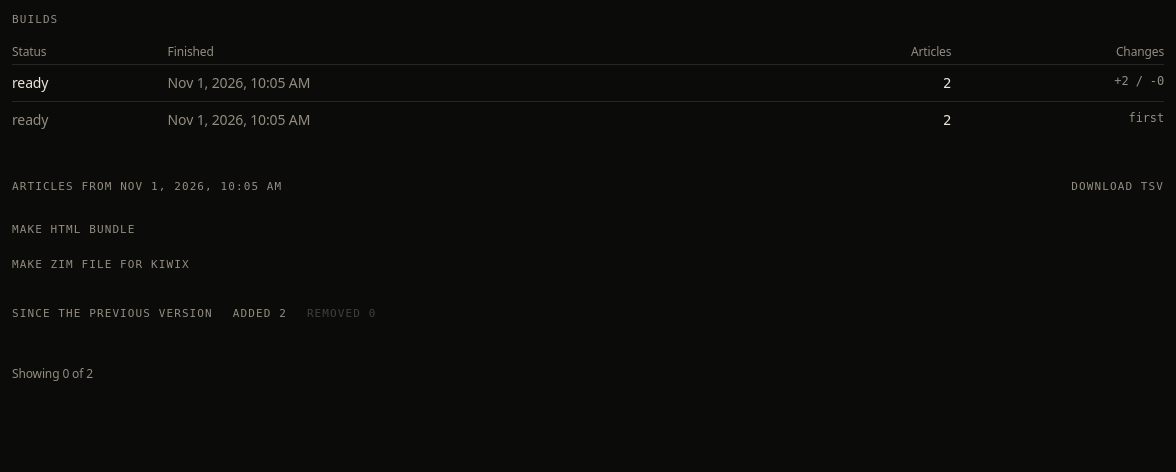
ListDetail › shows what changed since the previous version
Expected: the text named "2 added, 0 removed" is shown, [1114,74,1164,88]
Expected: the text "first" is shown, [951,101,1164,138]
Click the button "added 2". click: (260, 313)
box: [233,297,287,330]
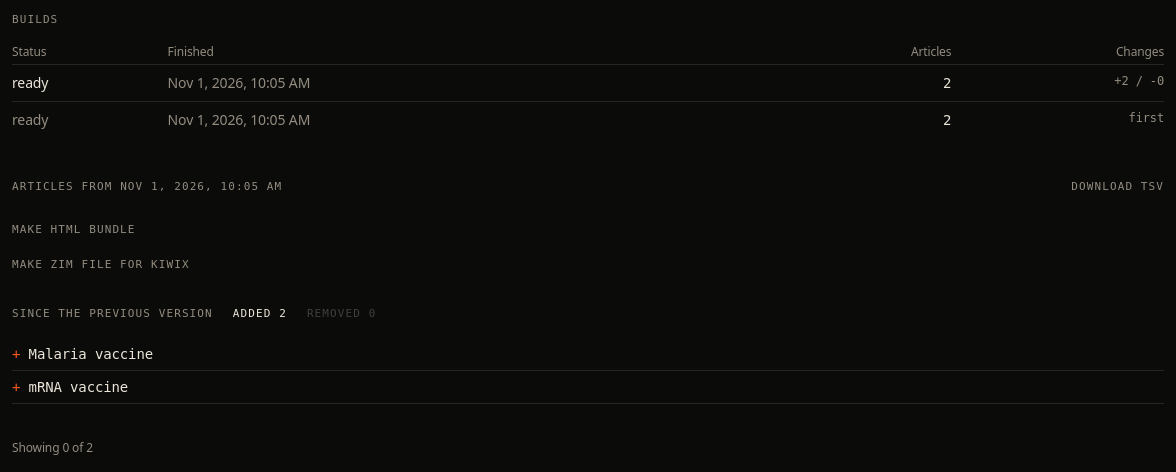
Click the button "added 2". click: (260, 313)
box: [233,297,287,330]
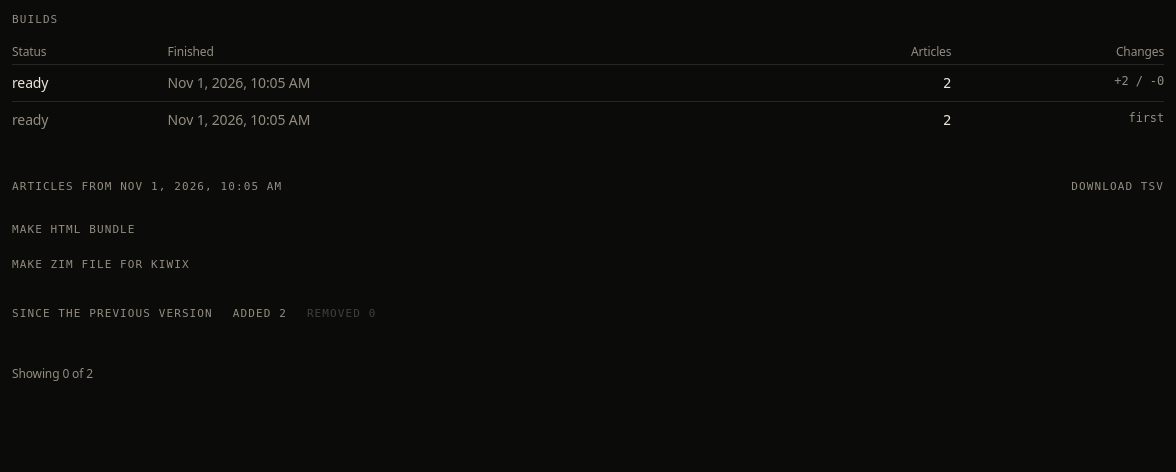
Expected: the link "Malaria vaccine" is gone
